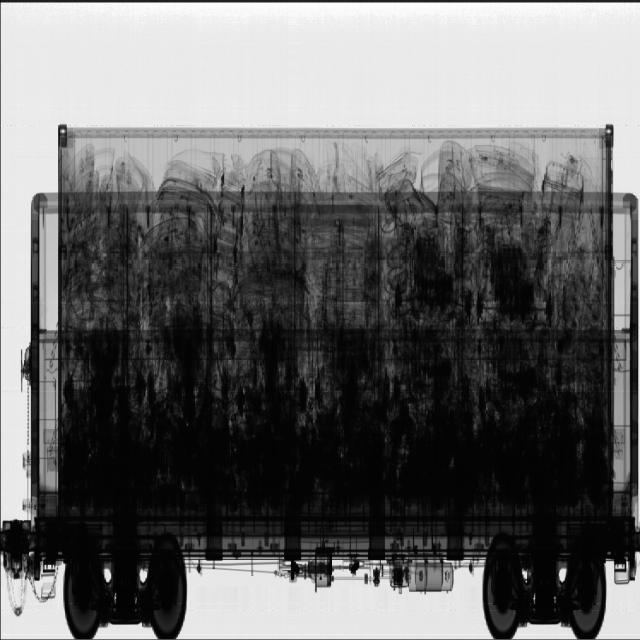---- -----: (64, 145, 601, 484)
